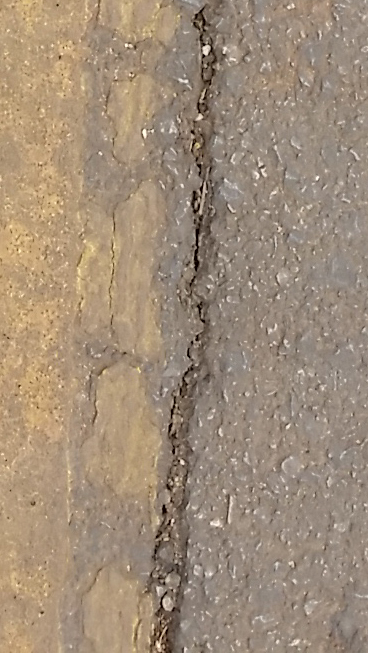A: (139, 5, 245, 653)
